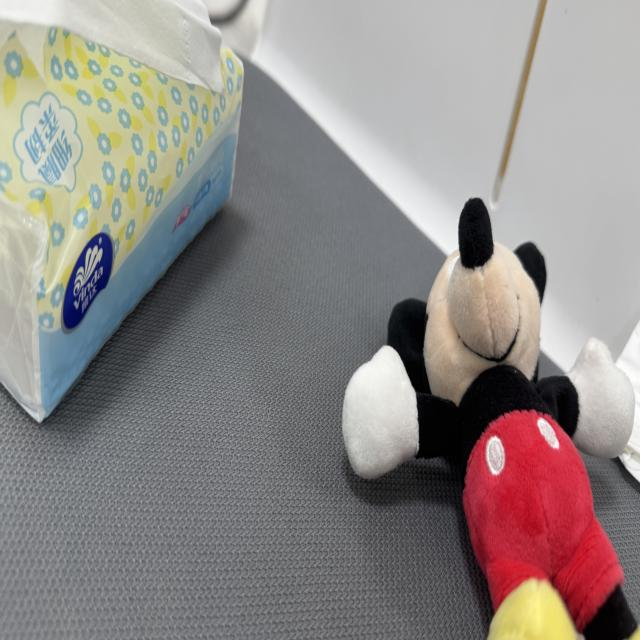mickey: (343, 199, 639, 639)
tissue: (0, 0, 243, 420)
